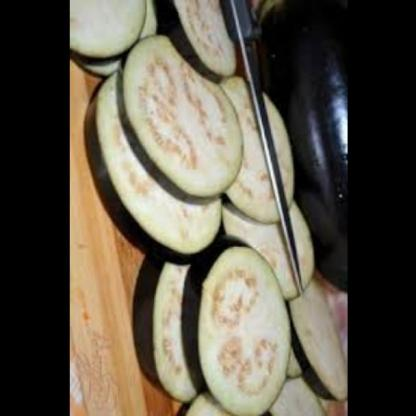eggplant: (99, 0, 333, 416), (242, 9, 348, 293)
